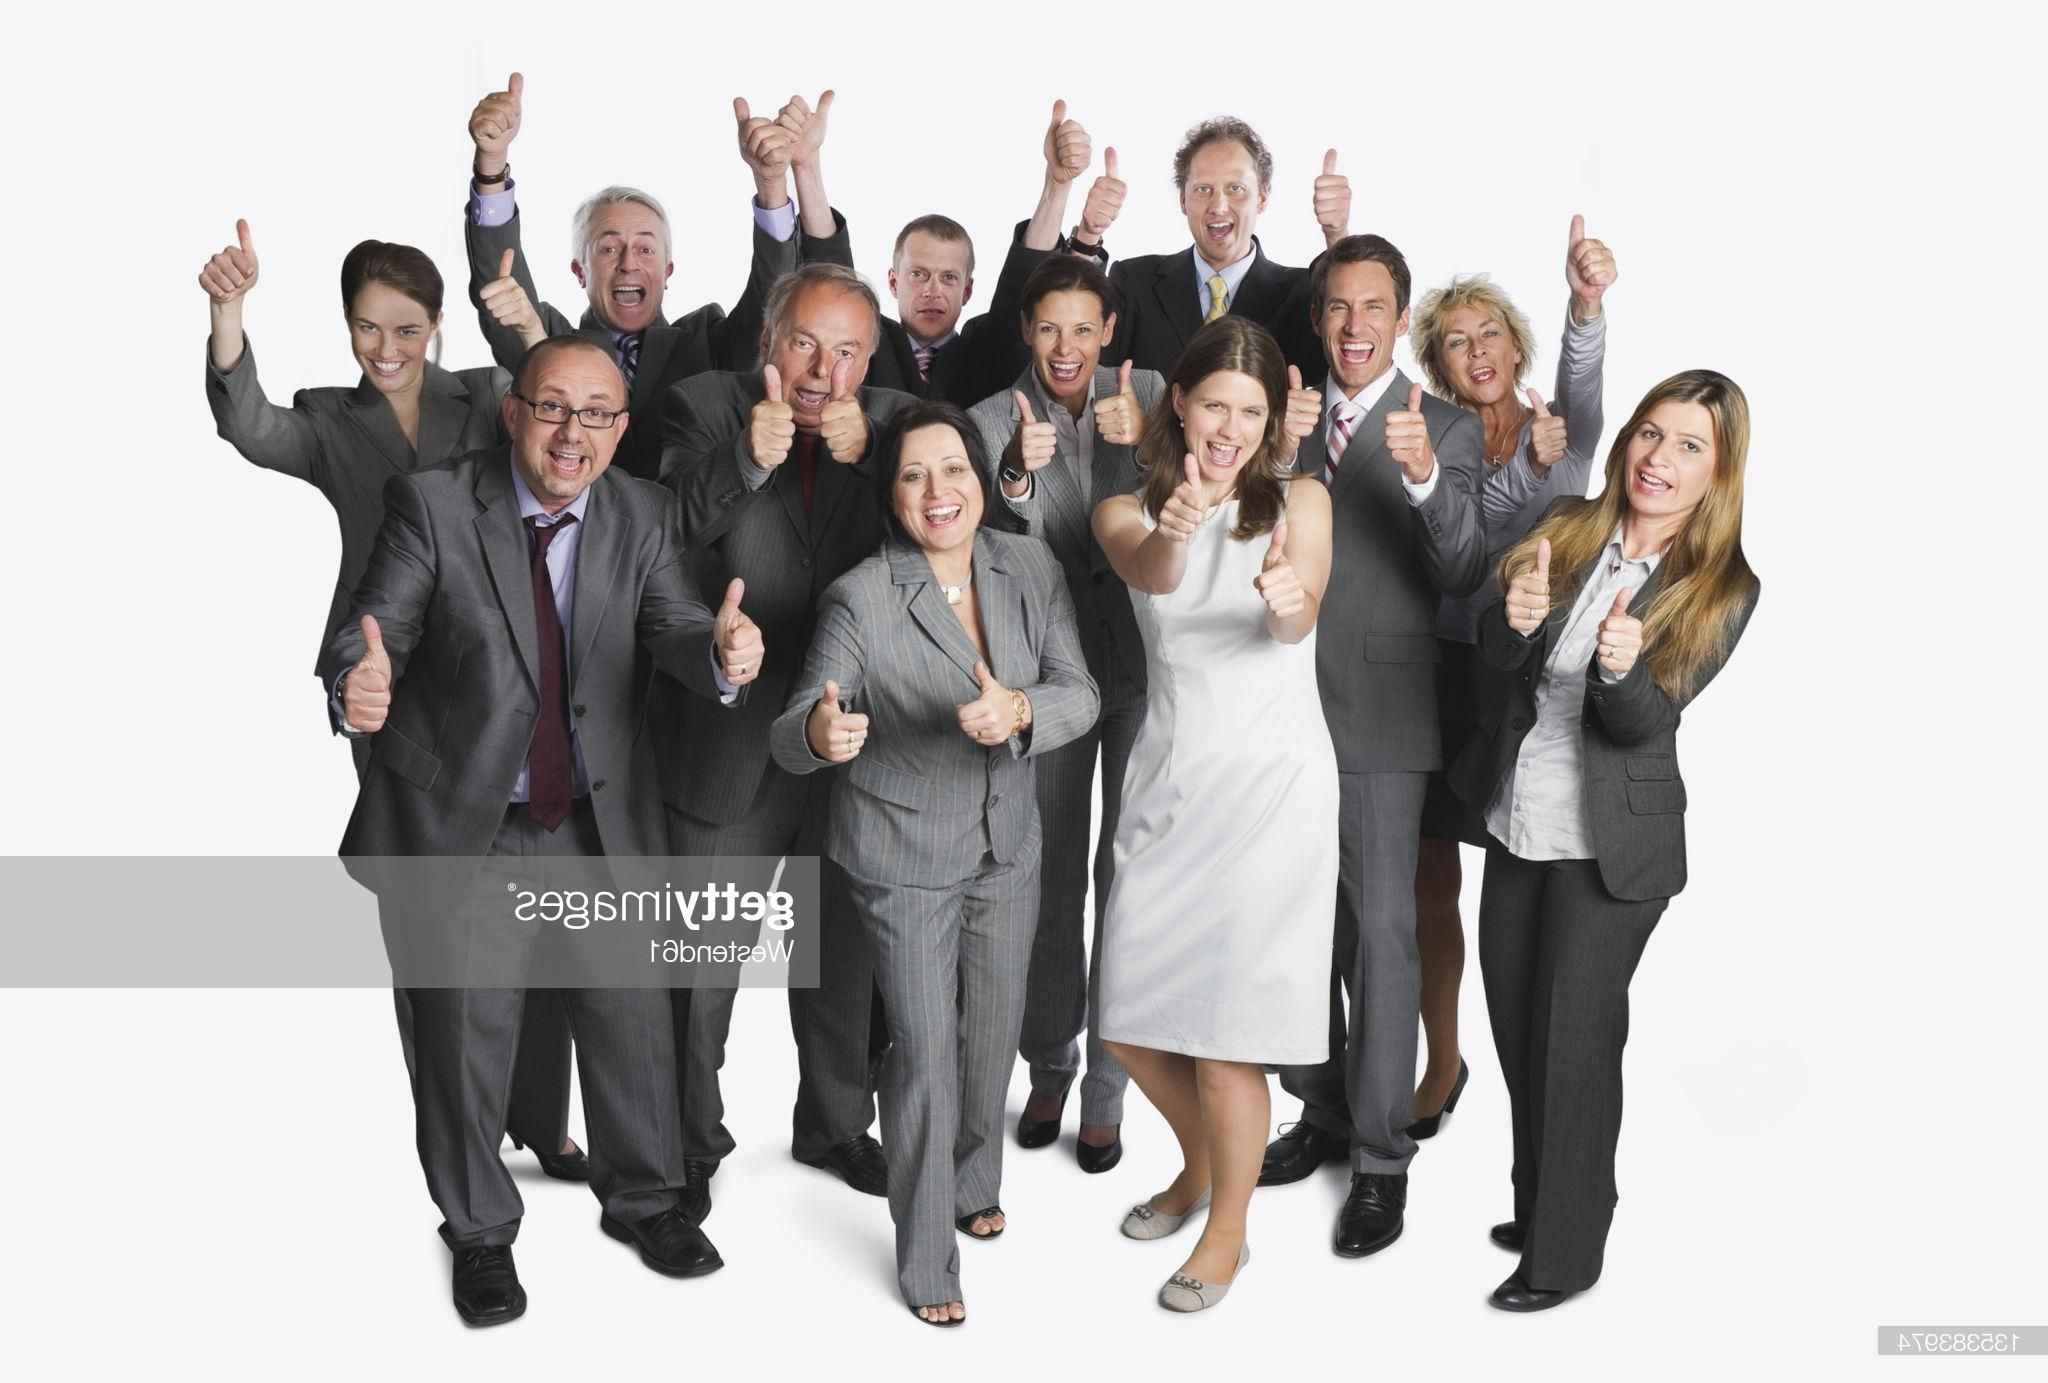thumbsup: (344, 614, 392, 732), (820, 357, 869, 465), (718, 577, 765, 685), (198, 218, 259, 301), (749, 363, 796, 465), (1256, 522, 1306, 617), (1157, 452, 1208, 542), (1505, 539, 1551, 631), (1594, 587, 1644, 673), (733, 96, 792, 168), (955, 661, 1005, 746), (478, 247, 529, 329), (823, 679, 870, 763), (468, 71, 525, 140), (1094, 358, 1139, 446), (1384, 381, 1429, 465), (1082, 145, 1127, 228), (1570, 215, 1619, 287), (1016, 389, 1059, 471), (1525, 387, 1570, 465), (775, 90, 835, 145), (1312, 148, 1354, 225), (1049, 97, 1093, 171), (1284, 364, 1323, 437)
